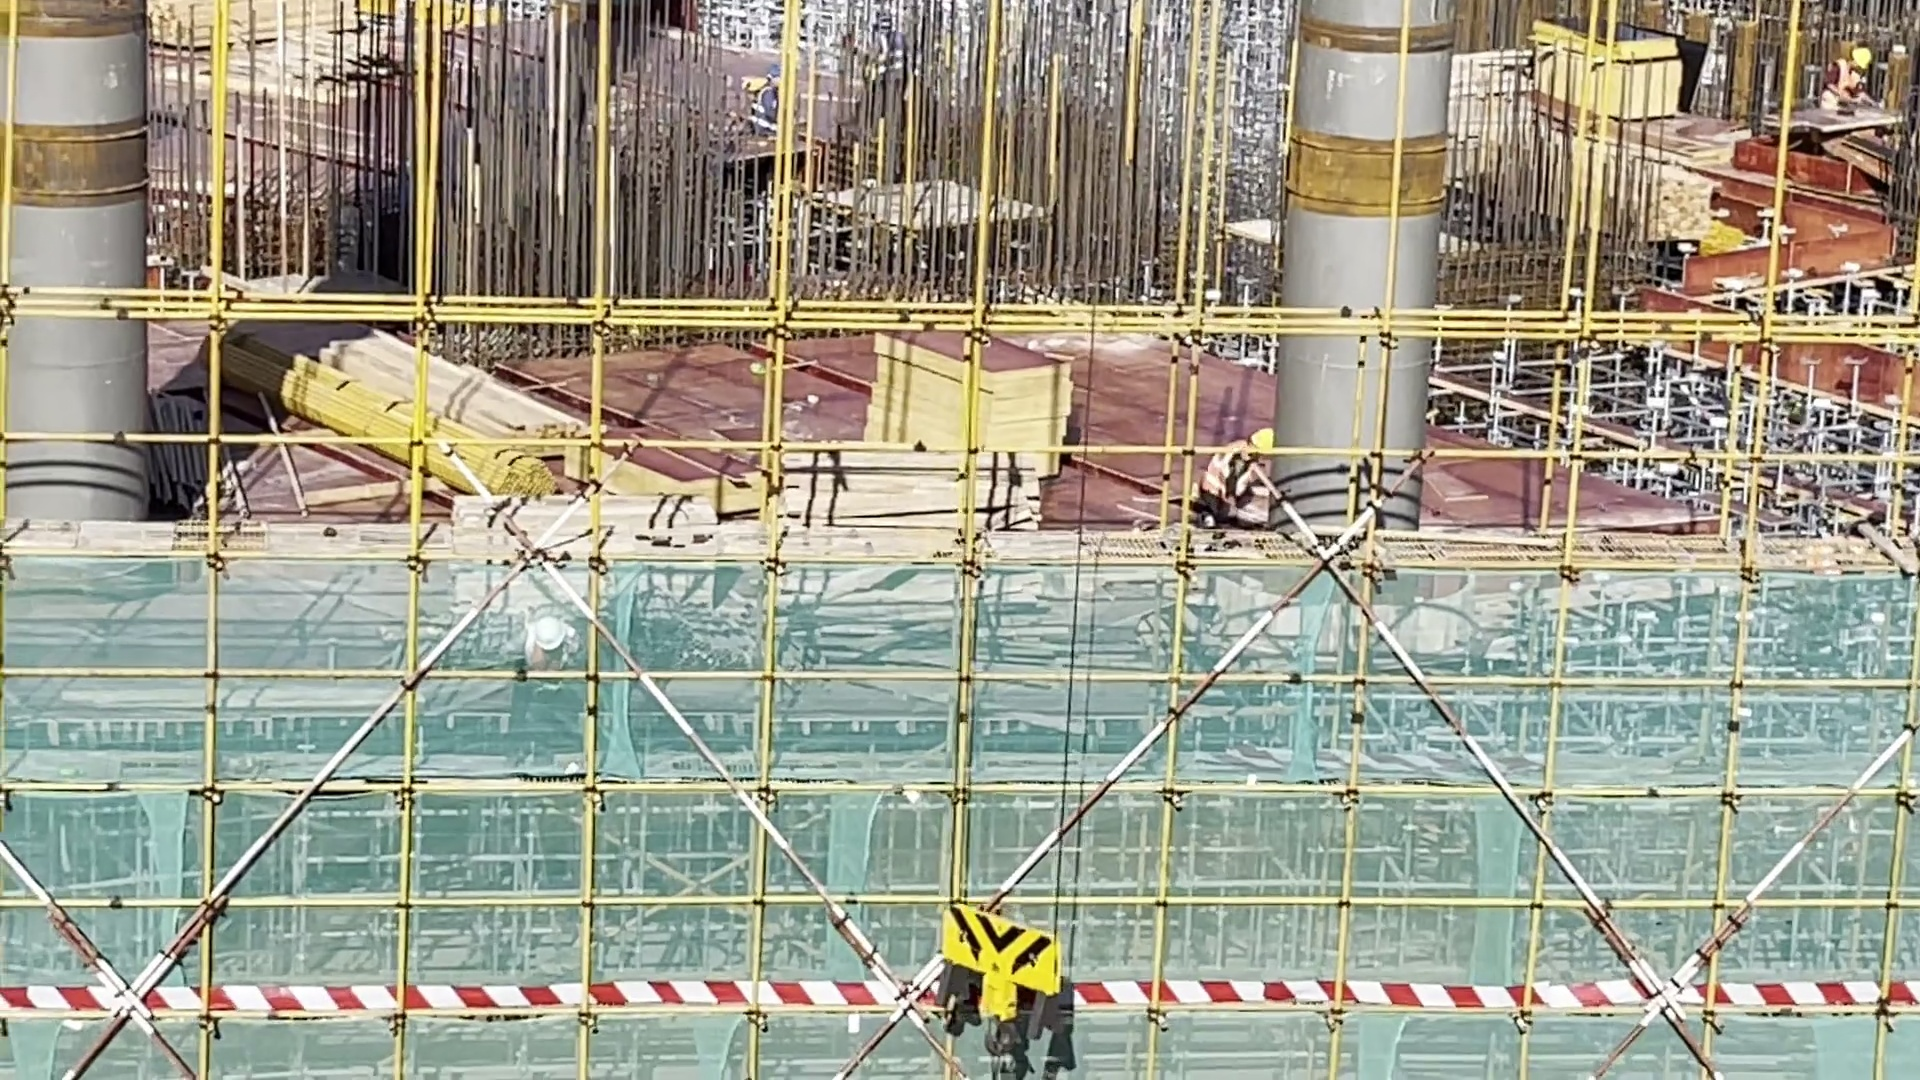board: (875, 335, 1077, 447), (1539, 6, 1681, 119)
helmet: (1247, 426, 1276, 453)
hook: (939, 901, 1058, 1020)
person: (1189, 423, 1278, 527), (1820, 45, 1883, 107)
vest: (1205, 440, 1256, 506)
wood: (292, 339, 579, 489), (1642, 180, 1717, 243)
